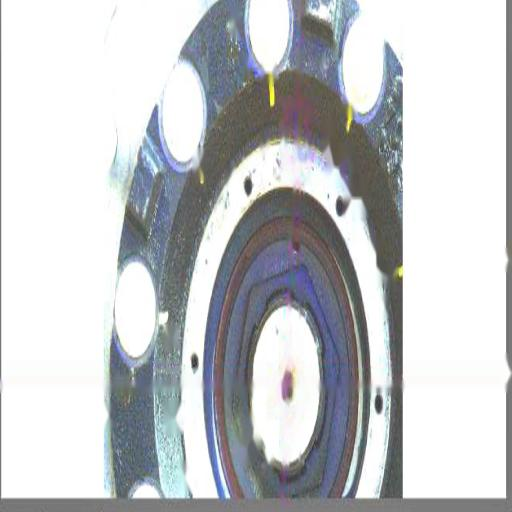center: (282, 380, 296, 404)
notch: (287, 234, 301, 258)
